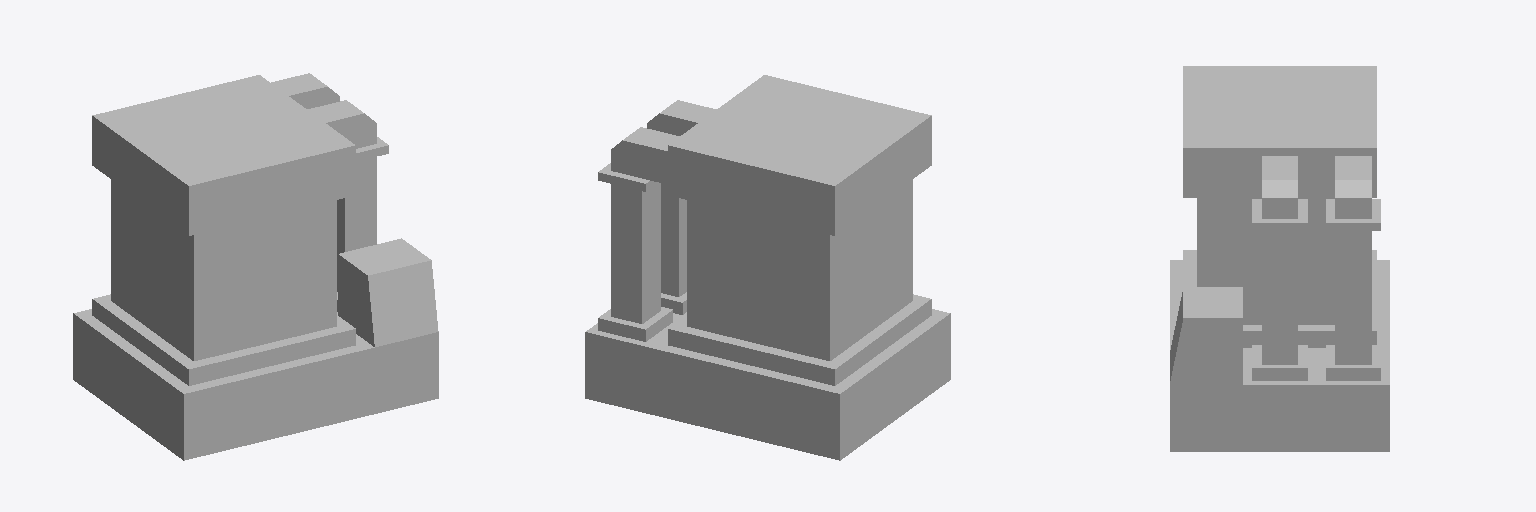
File: chemicalvat.obj
3 renders of one model, left to right at view 1: azimuth 30°, elevation 25°; view 2: azimuth 150°, elevation 25°; view 3: azimuth 270°, elevation 25°, orthographic.
Visible parts, largest first — view 1: Cube_Cube.001, glass_cube.014; view 2: Cube_Cube.001, glass_cube.014; view 3: Cube_Cube.001, glass_cube.014.
Part boxes in pixels (x1,y1,x2,y2): Cube_Cube.001: (73, 73, 438, 460); glass_cube.014: (111, 180, 336, 360); Cube_Cube.001: (585, 75, 950, 460); glass_cube.014: (687, 180, 912, 360); Cube_Cube.001: (1170, 66, 1389, 451); glass_cube.014: (1197, 198, 1334, 324).
Bounding box in the file's own units: 4 × 4 × 3.